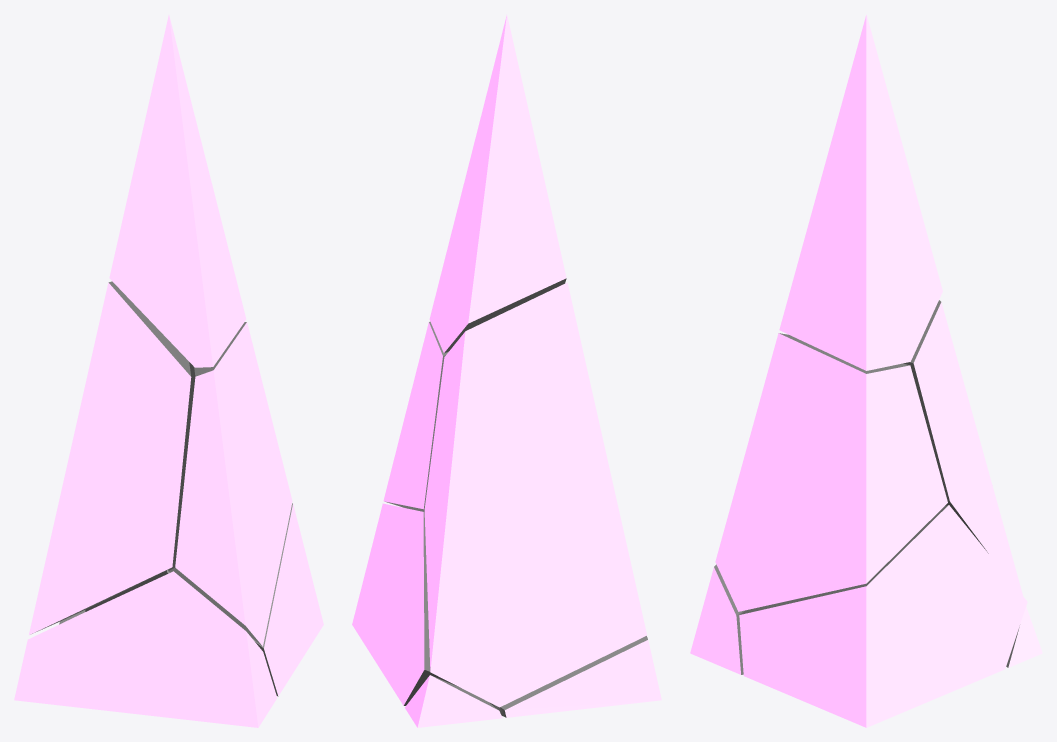
File: Cone_dest_all.fbx
The picture shows the model from 3 angles, left to right: view 1: azimuth 30°, elevation 25°; view 2: azimuth 150°, elevation 25°; view 3: azimuth 270°, elevation 25°; orthographic projection.
Visible parts, largest first — view 1: Cone_dest_all:After:Cone_006, Cone_dest_all:After:Cone_005, Cone_dest_all:After:Cone_004, Cone_dest_all:After:Cone_001, Cone_dest_all:After:Cone_002; view 2: Cone_dest_all:After:Cone_006, Cone_dest_all:After:Cone_001, Cone_dest_all:After:Cone_002, Cone_dest_all:After:Cone_005, Cone_dest_all:After:Cone_004, Cone_dest_all:After:Cone_003; view 3: Cone_dest_all:After:Cone_004, Cone_dest_all:After:Cone_002, Cone_dest_all:After:Cone_001, Cone_dest_all:After:Cone_006, Cone_dest_all:After:Cone_005, Cone_dest_all:After:Cone_003.
Part boxes in pixels (<box>): Cone_dest_all:After:Cone_006: <box>29,281,191,634</box>; Cone_dest_all:After:Cone_005: <box>14,571,277,727</box>; Cone_dest_all:After:Cone_004: <box>168,322,292,646</box>; Cone_dest_all:After:Cone_001: <box>109,15,246,367</box>; Cone_dest_all:After:Cone_002: <box>85,503,323,696</box>; Cone_dest_all:After:Cone_006: <box>424,282,647,707</box>; Cone_dest_all:After:Cone_001: <box>429,15,566,352</box>; Cone_dest_all:After:Cone_002: <box>352,503,458,705</box>; Cone_dest_all:After:Cone_005: <box>489,636,661,717</box>; Cone_dest_all:After:Cone_004: <box>383,321,448,511</box>; Cone_dest_all:After:Cone_003: <box>405,675,502,727</box>; Cone_dest_all:After:Cone_004: <box>715,333,947,611</box>; Cone_dest_all:After:Cone_002: <box>739,505,1027,727</box>; Cone_dest_all:After:Cone_001: <box>779,14,942,370</box>; Cone_dest_all:After:Cone_006: <box>903,300,1022,595</box>; Cone_dest_all:After:Cone_005: <box>690,564,744,674</box>; Cone_dest_all:After:Cone_003: <box>1006,607,1042,667</box>.
Size of the model in its own units: 20 by 40 by 20.
